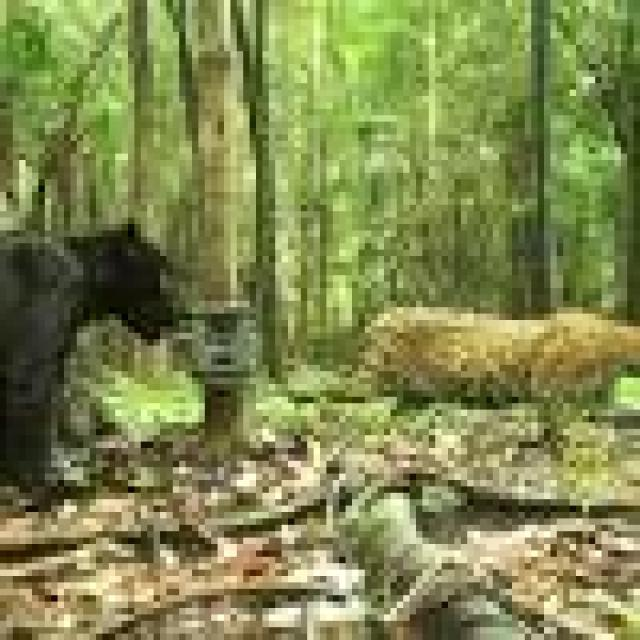Jaguar: (0, 198, 192, 480), (358, 294, 640, 416)
